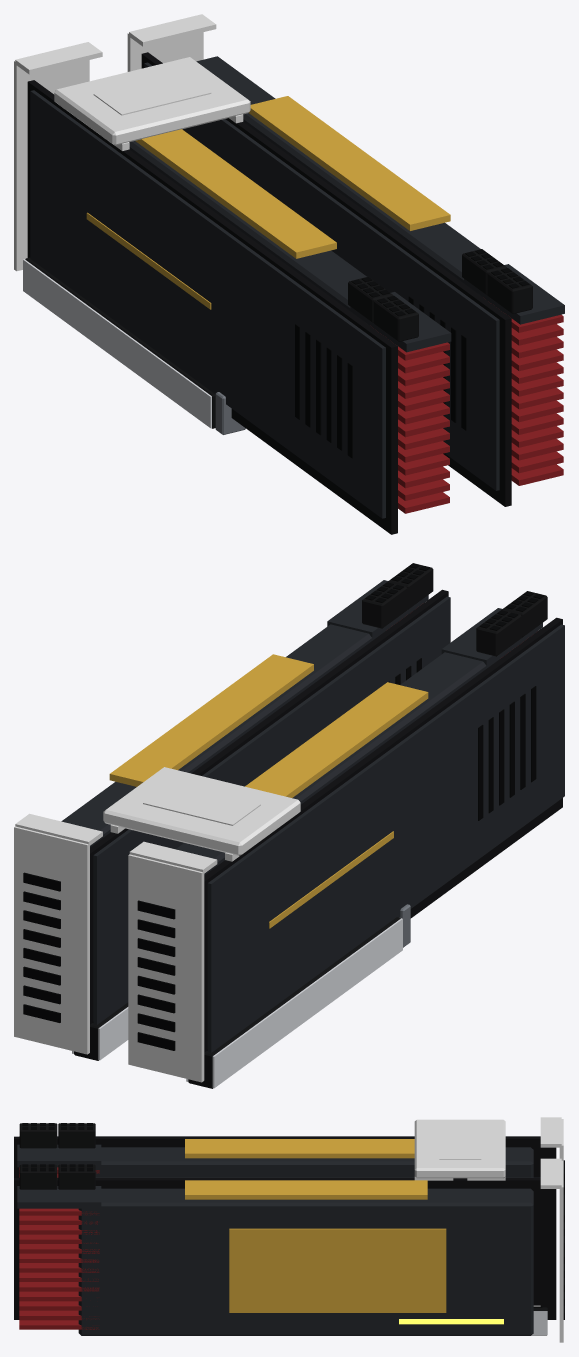
The model's file is hwm_gpu_a100.glb.
3 views of the same model, one above another, from view 1: azimuth 30°, elevation 25°; view 2: azimuth 150°, elevation 25°; view 3: azimuth 270°, elevation 25° (orthographic). The views are drawn at different scales.
Parts seen in each view (by area): view 1: Card_0, Card_1, Bridge, Slot_0; view 2: Card_0, Card_1, Bridge, Slot_0, Slot_1; view 3: Card_1, Card_0, Bridge, Slot_1.
Part boxes in pixels (x1=…): Card_0: x1=14, y1=42, x2=451, y2=534; Card_1: x1=127, y1=14, x2=564, y2=506; Bridge: x1=54, y1=57, x2=250, y2=145; Slot_0: x1=23, y1=257, x2=245, y2=434; Card_0: x1=128, y1=591, x2=564, y2=1082; Card_1: x1=14, y1=563, x2=450, y2=1054; Bridge: x1=103, y1=767, x2=300, y2=856; Slot_0: x1=186, y1=904, x2=410, y2=1088; Slot_1: x1=72, y1=1002, x2=128, y2=1060; Card_1: x1=14, y1=1158, x2=564, y2=1342; Card_0: x1=14, y1=1117, x2=564, y2=1201; Bridge: x1=414, y1=1119, x2=505, y2=1178; Slot_1: x1=531, y1=1306, x2=547, y2=1335.
Bounding box in the file's own units: 0.093 × 0.1076 × 0.3149.
